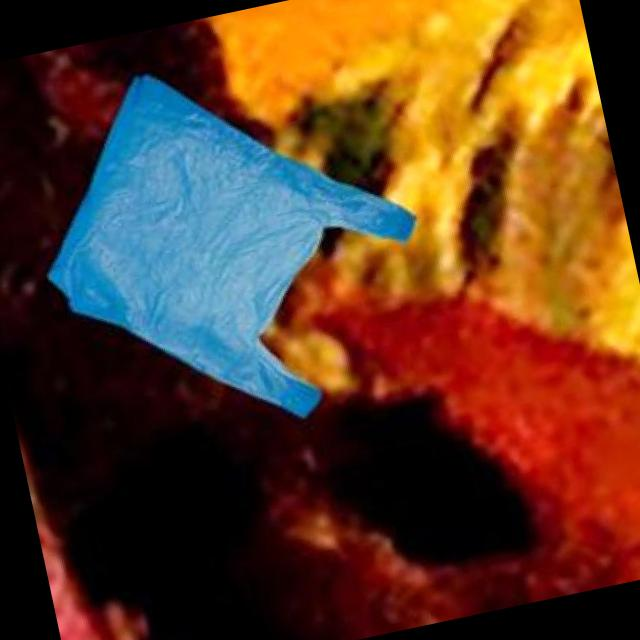KantongPlastik: (8, 21, 454, 465)
